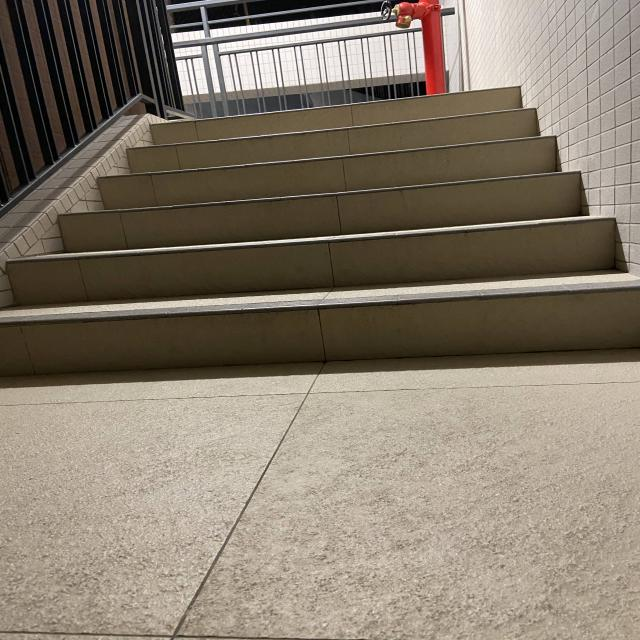Stairs: (0, 73, 640, 364)
